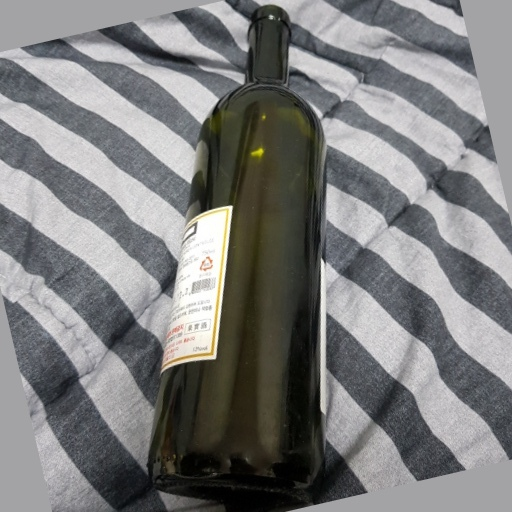Glass_2: (140, 2, 330, 499)
